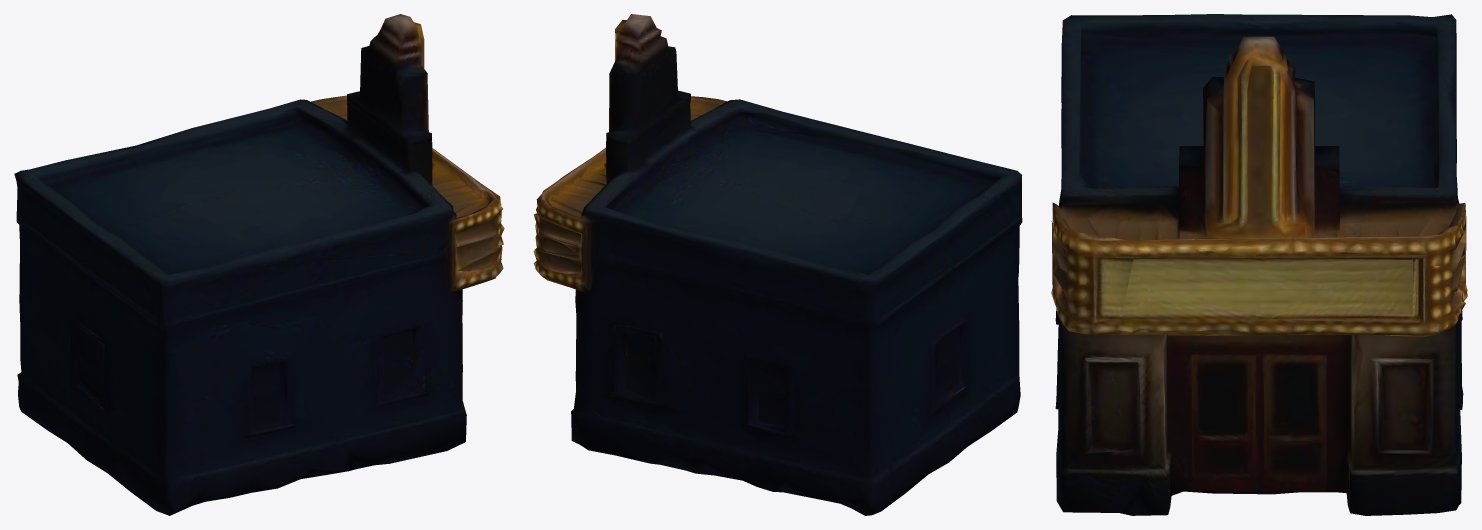
Rendered from 3d-kino.glb.
3 renders of one model, left to right at view 1: azimuth 30°, elevation 25°; view 2: azimuth 150°, elevation 25°; view 3: azimuth 270°, elevation 25°, orthographic. The views are drawn at different scales.
Parts seen in each view (by area): view 1: tripo_node_e3e379d3-d8ca-460e-8250-6e38eaf08079; view 2: tripo_node_e3e379d3-d8ca-460e-8250-6e38eaf08079; view 3: tripo_node_e3e379d3-d8ca-460e-8250-6e38eaf08079.
Part boxes in pixels (left/top/right/bottom): tripo_node_e3e379d3-d8ca-460e-8250-6e38eaf08079: left=14, top=14, right=504, bottom=515; tripo_node_e3e379d3-d8ca-460e-8250-6e38eaf08079: left=533, top=14, right=1022, bottom=515; tripo_node_e3e379d3-d8ca-460e-8250-6e38eaf08079: left=1051, top=14, right=1467, bottom=515.
Size of the model in its own units: 0.9936 by 1 by 0.7786.
1 material, 1 textured.
